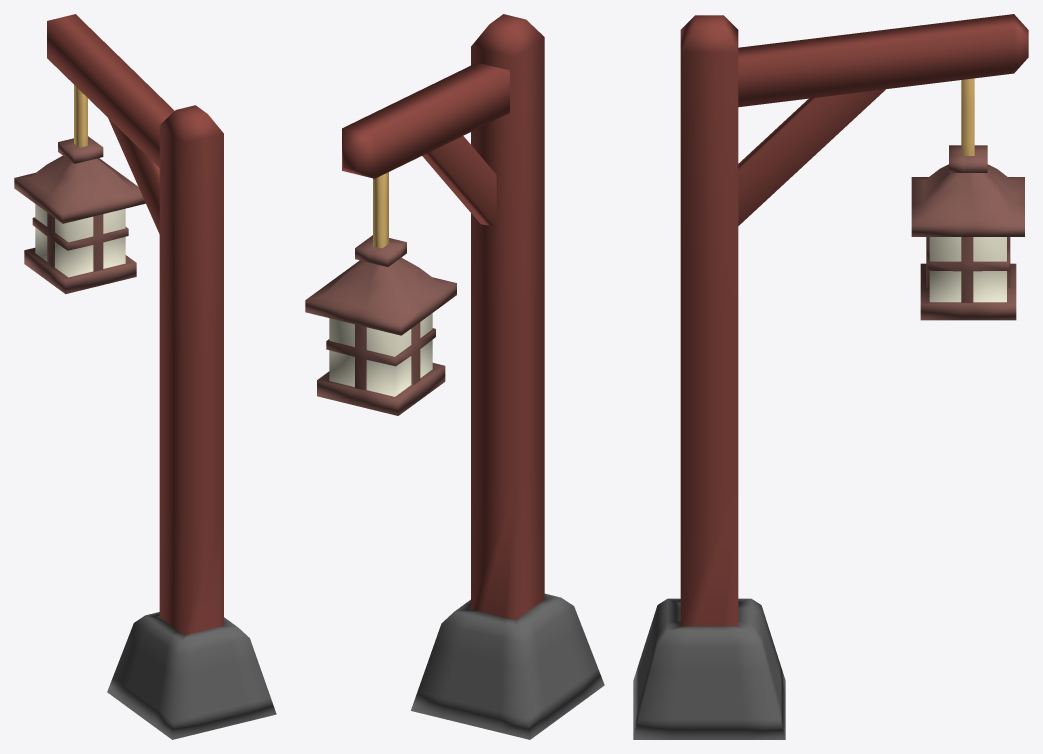
Rendered from Light.fbx.
3 renders of one model, left to right at view 1: azimuth 30°, elevation 25°; view 2: azimuth 150°, elevation 25°; view 3: azimuth 270°, elevation 25°, orthographic. The views are drawn at different scales.
Parts seen in each view (by area): view 1: Light; view 2: Light; view 3: Light.
Boxes of the visible parts, x1,y1,x2,y2 form: Light: (14,14,276,739); Light: (305,14,604,739); Light: (633,14,1028,739).
Bounding box in the file's own units: 67.65 × 366 × 190.
